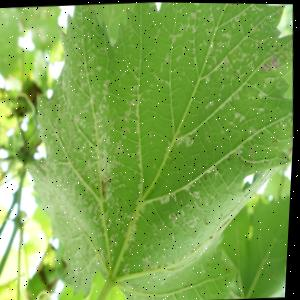Folha: (14, 0, 300, 300)
Fungo: (36, 17, 145, 296), (144, 2, 297, 110), (166, 180, 209, 243), (43, 169, 91, 219), (79, 97, 118, 158), (120, 186, 150, 257), (170, 124, 208, 156), (92, 145, 124, 180), (95, 171, 121, 206), (225, 103, 255, 132), (99, 66, 119, 100), (181, 172, 201, 204), (47, 100, 69, 127), (227, 135, 249, 162), (244, 117, 264, 143), (141, 245, 157, 275), (260, 53, 282, 72), (157, 191, 171, 212), (282, 138, 294, 162), (268, 53, 282, 70), (261, 61, 272, 72)
